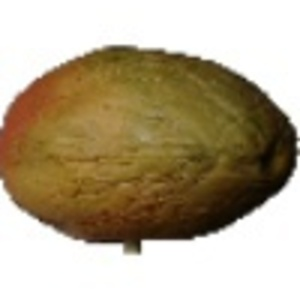mamão: (2, 37, 295, 245)
